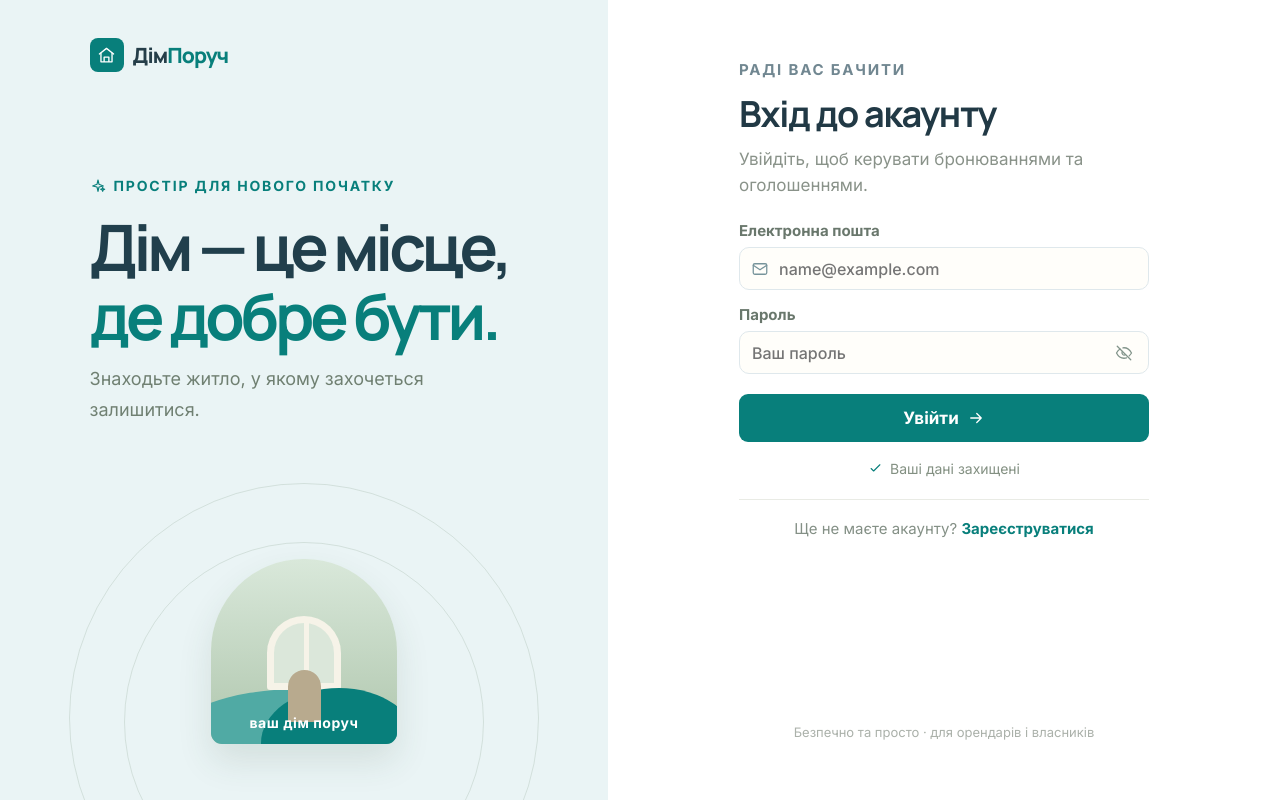
Test: frontend integration flows › shows a Ukrainian login message for invalid credentials returned by the API
The width and height of the screenshot is (1280, 800).
Type "person@example.com" into the field with placeholder "name@example.com" at {"x": 944, "y": 269}, box [739, 247, 1149, 290]
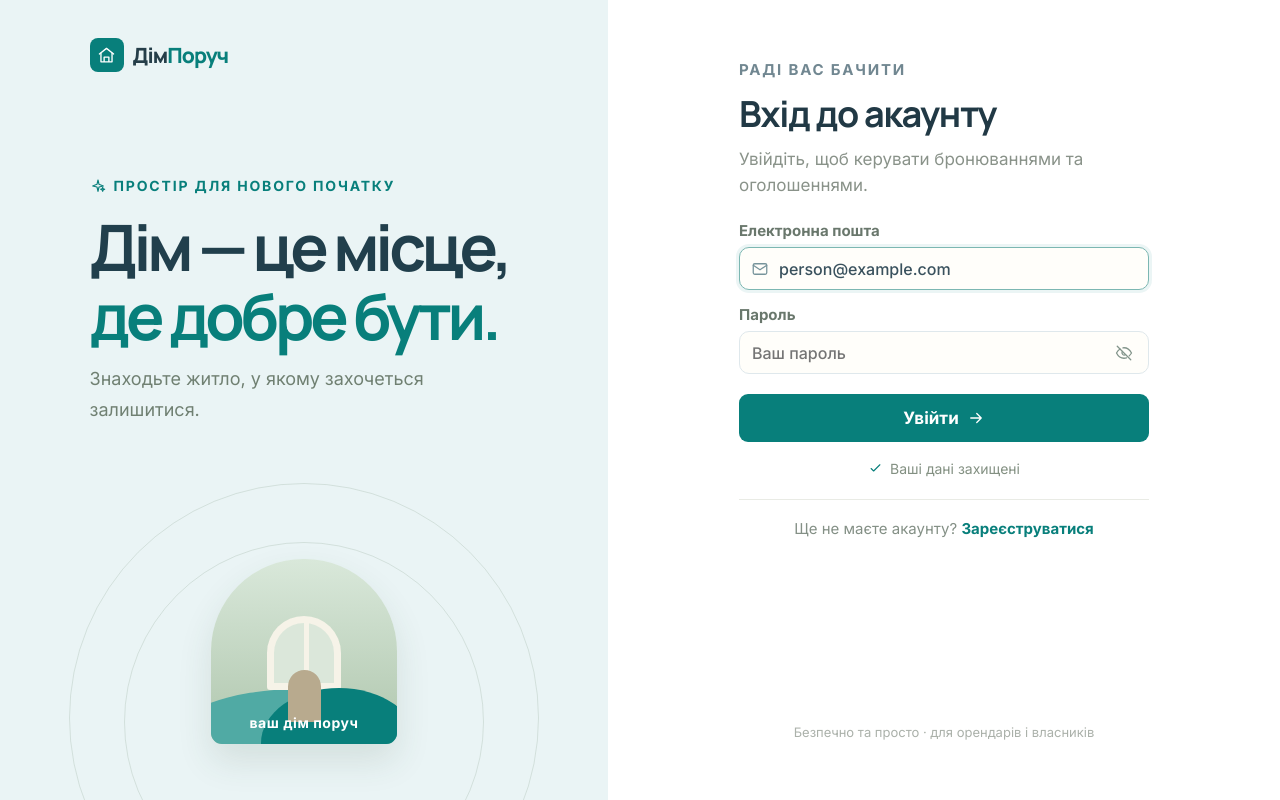
Type "wrong-password" into the password field with placeholder "Ваш пароль" at {"x": 944, "y": 353}, box [739, 331, 1149, 374]
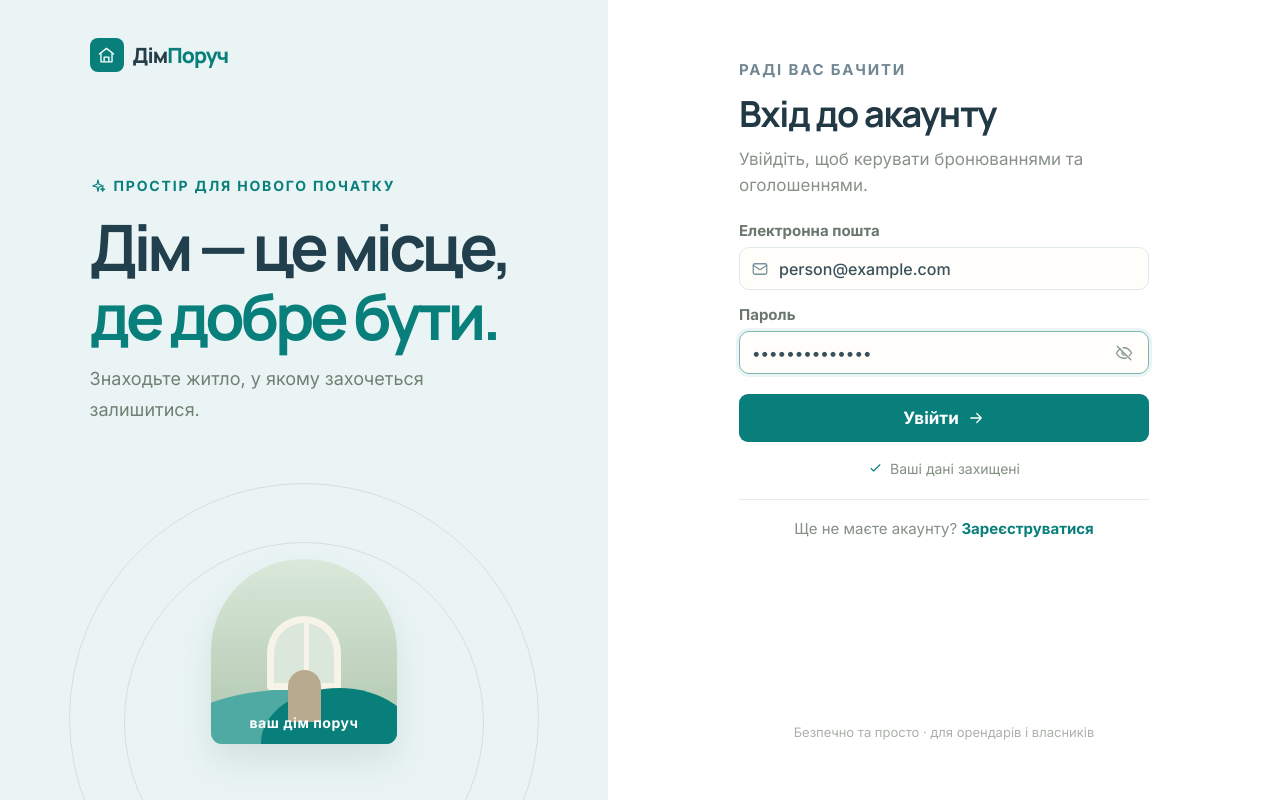
Click the button "Увійти" at {"x": 944, "y": 418}, box [739, 394, 1149, 442]
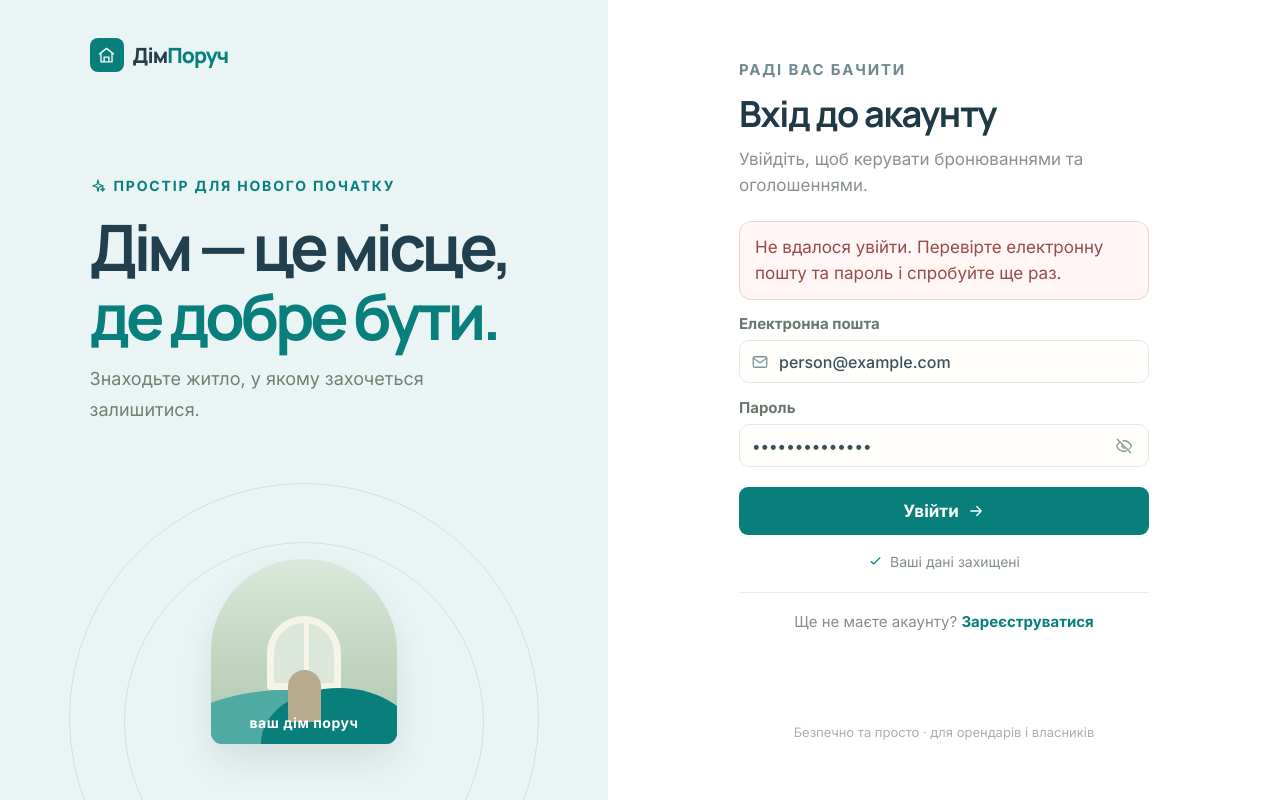
Check: the text "Не вдалося увійти. Перевірте електронну пошту та пароль і спробуйте ще раз." is shown, box [739, 221, 1149, 300]
